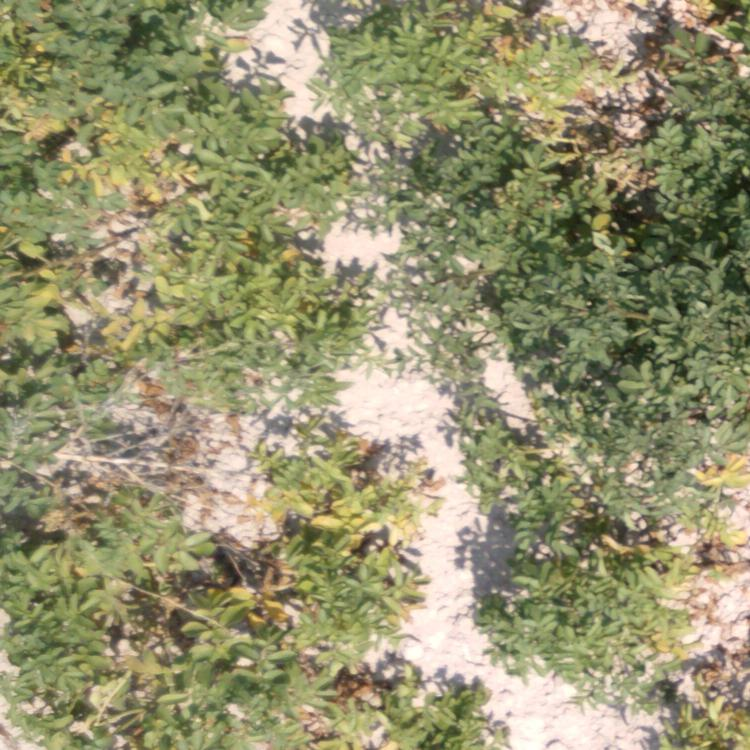healthy: (407, 246, 750, 417), (487, 427, 634, 647)
stressed: (380, 1, 750, 240), (1, 1, 328, 200), (1, 215, 351, 386), (7, 635, 478, 750), (1, 390, 214, 627), (237, 427, 430, 632), (631, 425, 750, 750)
